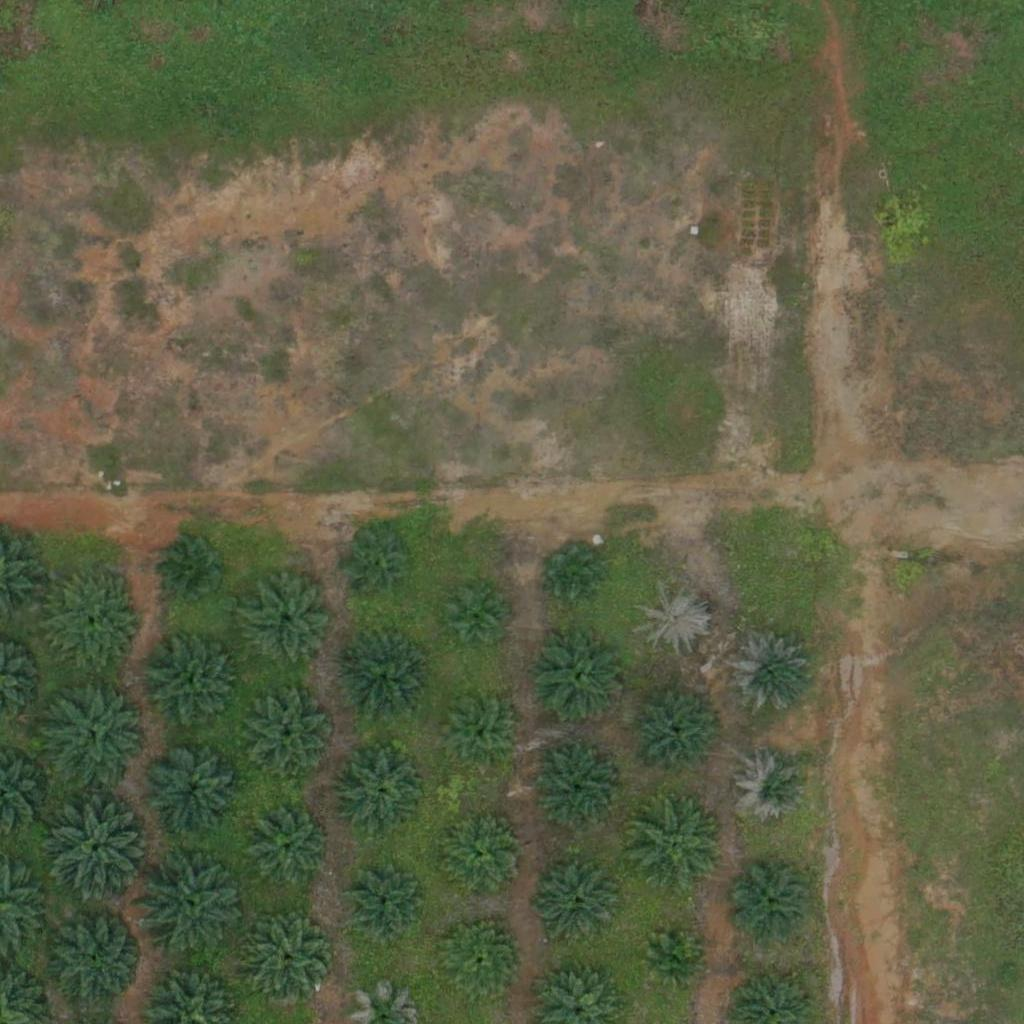Kelapa_Sawit: (136, 848, 249, 961), (43, 792, 155, 905), (45, 574, 145, 675), (47, 680, 147, 781), (141, 632, 241, 733), (144, 740, 244, 841), (238, 570, 338, 671), (46, 908, 146, 1008), (530, 628, 630, 728), (629, 682, 729, 782), (629, 796, 729, 896), (246, 694, 334, 783), (436, 918, 524, 1007), (340, 637, 428, 725), (337, 750, 425, 838), (439, 816, 527, 904), (725, 630, 813, 718), (727, 860, 815, 948), (243, 808, 330, 896), (246, 918, 333, 1006), (535, 745, 622, 833), (534, 861, 621, 949), (636, 581, 711, 657), (737, 751, 812, 827), (442, 700, 517, 775), (346, 868, 421, 943), (347, 533, 410, 596), (444, 580, 507, 643), (164, 535, 227, 598), (644, 931, 707, 994), (540, 541, 602, 603)
